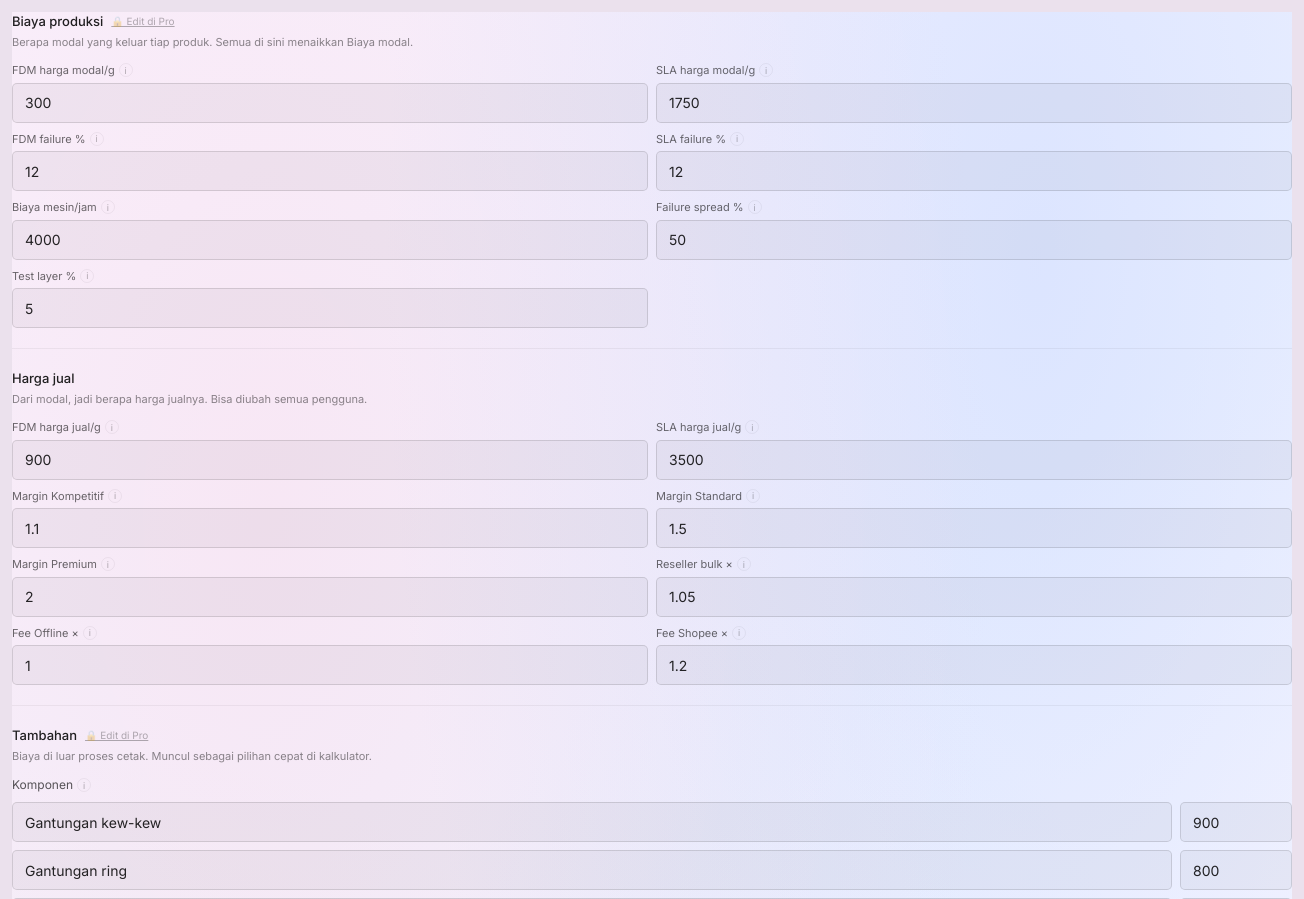
Test: SettingsPanel struktur & tooltip › tooltip ℹ: tersembunyi, muncul saat diklik, hilang saat diklik lagi
The image size is (1304, 899).
Click the button named "Penjelasan". click: (126, 70)
box: [119,63,133,77]
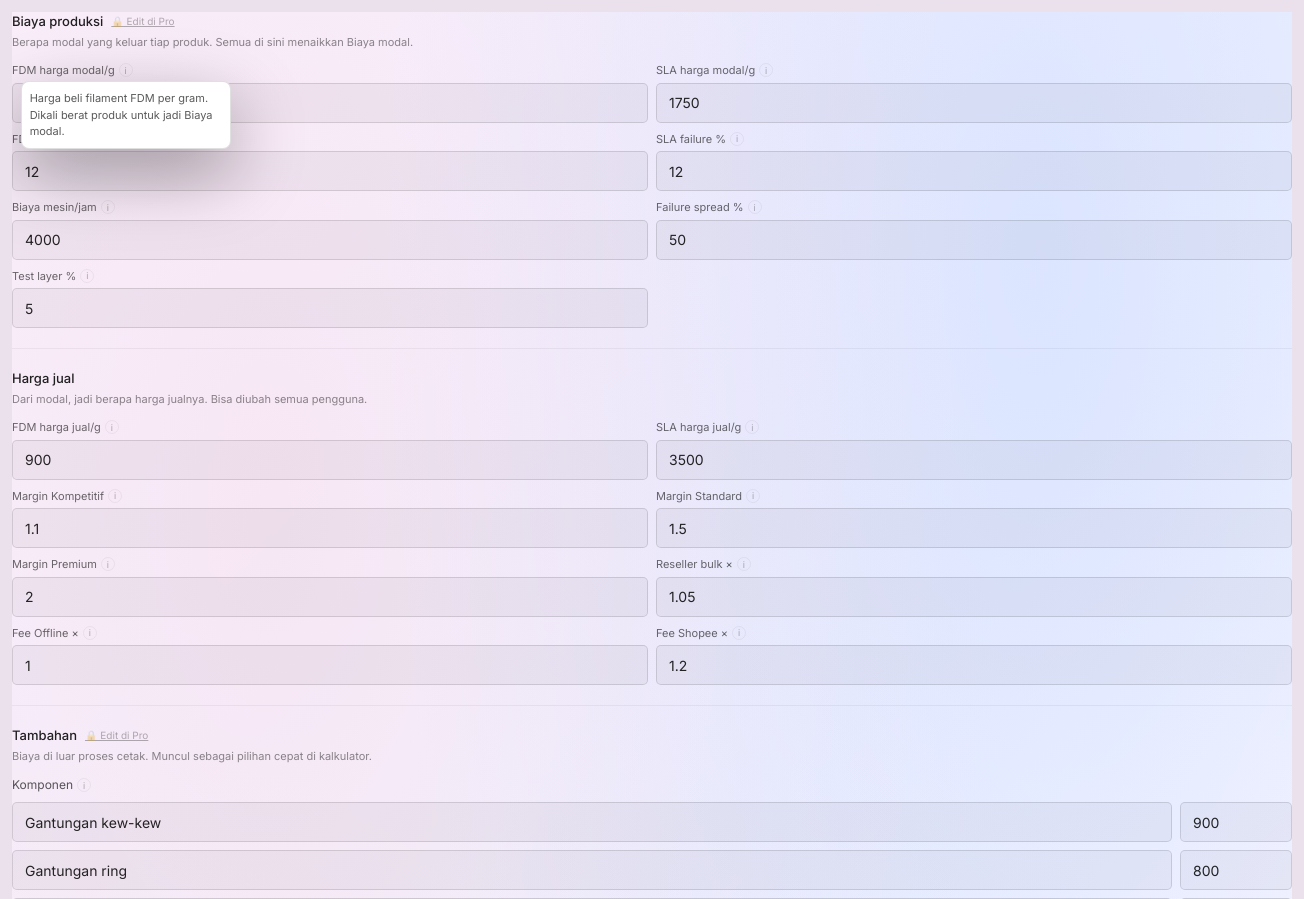
Expected: the tooltip shows "filament FDM per gram", [30,91,212,138]
Click the button named "Penjelasan". click: (126, 70)
box: [119,63,133,77]
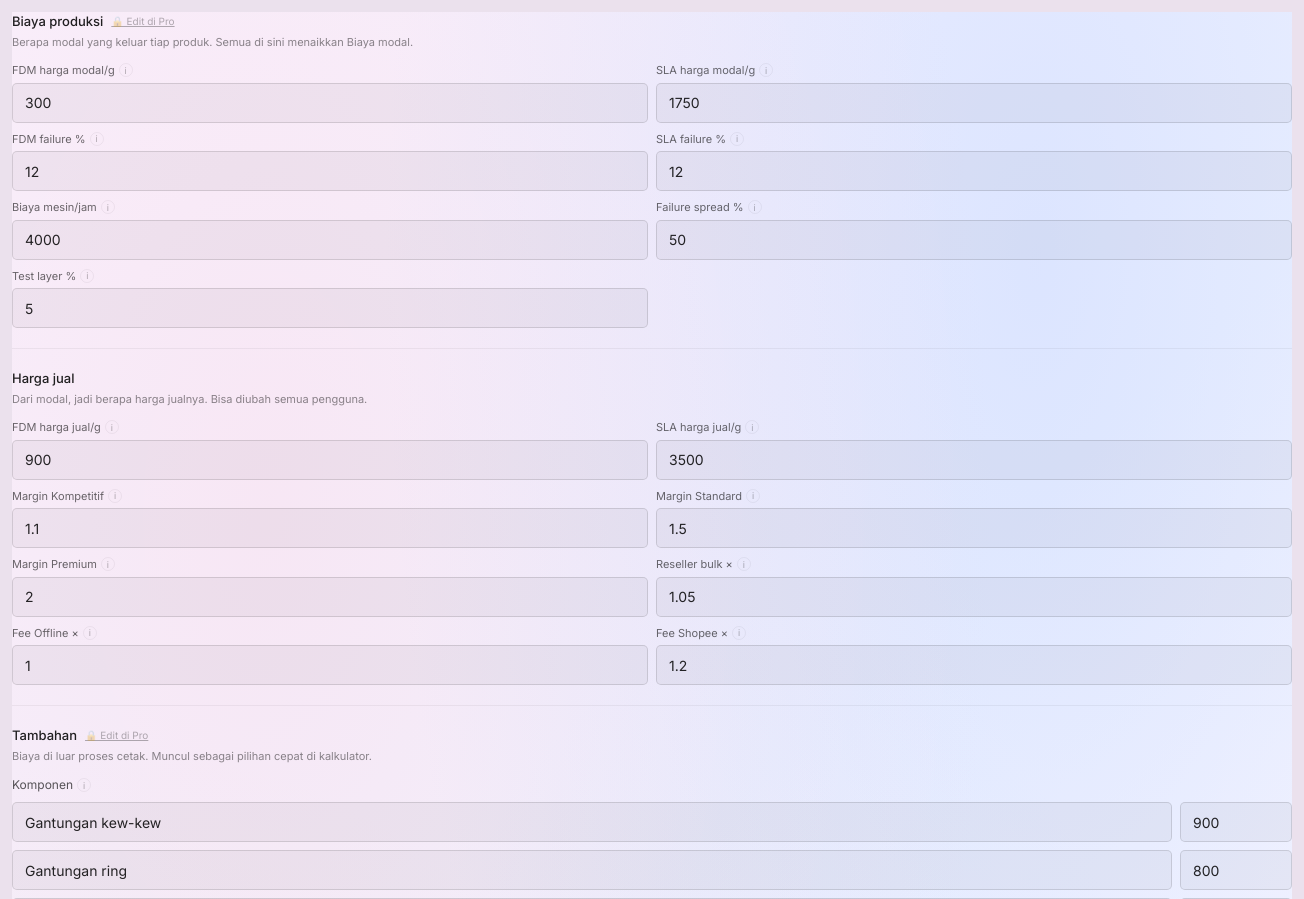
Expected: the tooltip "Harga beli filament FDM per gram. Dikali berat produk untuk jadi Biaya modal." is gone
